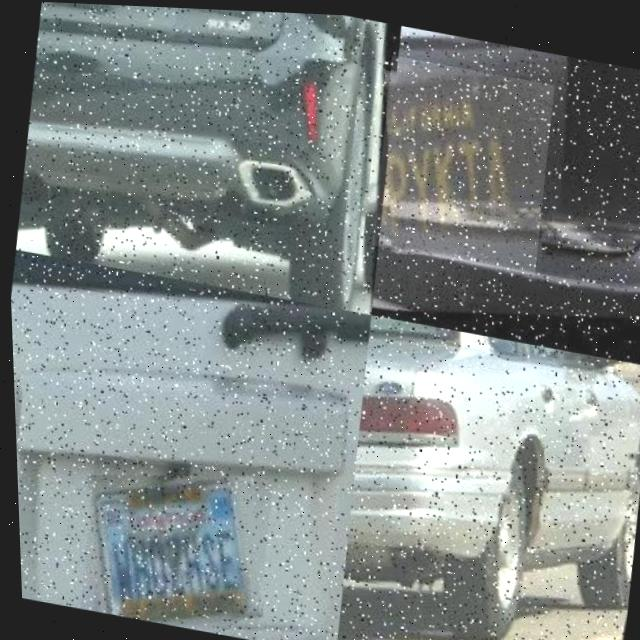LicensePlate: (365, 51, 559, 271), (71, 452, 273, 640), (89, 3, 181, 26)
